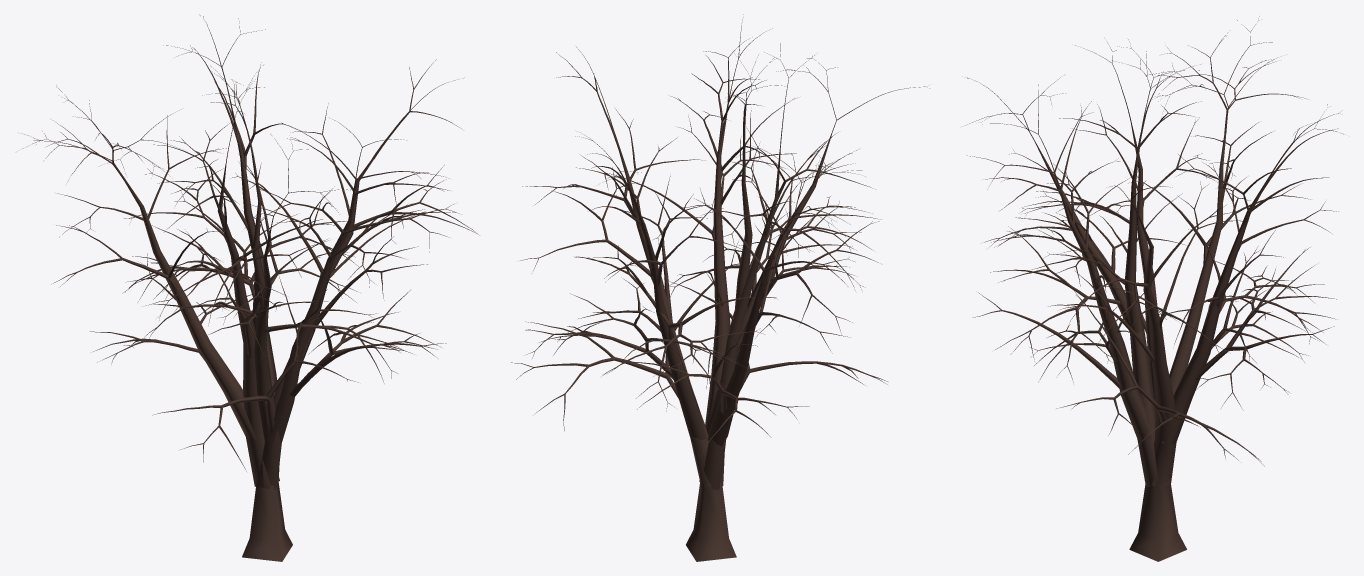
Rendered from Tree.001.fbx.
The picture shows the model from 3 angles, left to right: view 1: azimuth 30°, elevation 25°; view 2: azimuth 150°, elevation 25°; view 3: azimuth 270°, elevation 25°; orthographic projection.
Parts seen in each view (by area): view 1: Tree.001; view 2: Tree.001; view 3: Tree.001.
Boxes of the visible parts, x1,y1,x2,y2 form: Tree.001: [22, 14, 479, 561]; Tree.001: [511, 14, 929, 561]; Tree.001: [965, 16, 1343, 561].
Bounding box in the file's own units: 1314 × 1190 × 1659.
